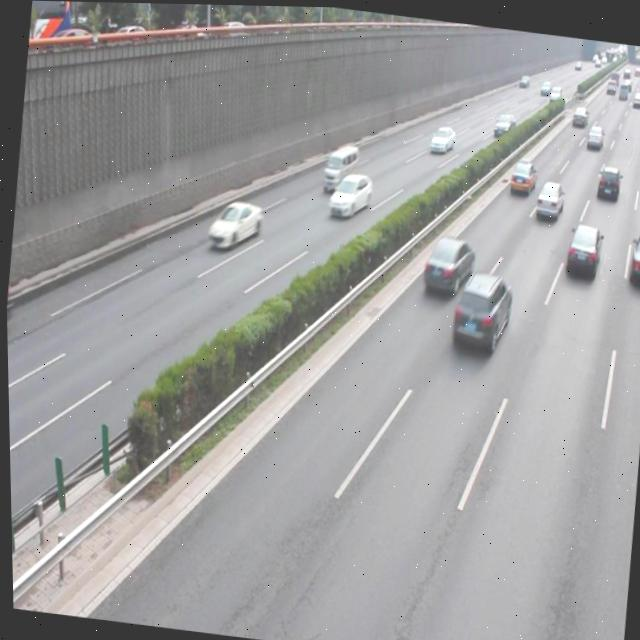car: (445, 265, 513, 353), (419, 229, 474, 294), (205, 194, 263, 253), (325, 167, 372, 219), (561, 216, 600, 277), (530, 174, 563, 220), (625, 225, 640, 283), (5, 273, 14, 340)
truck: (320, 137, 360, 193)
